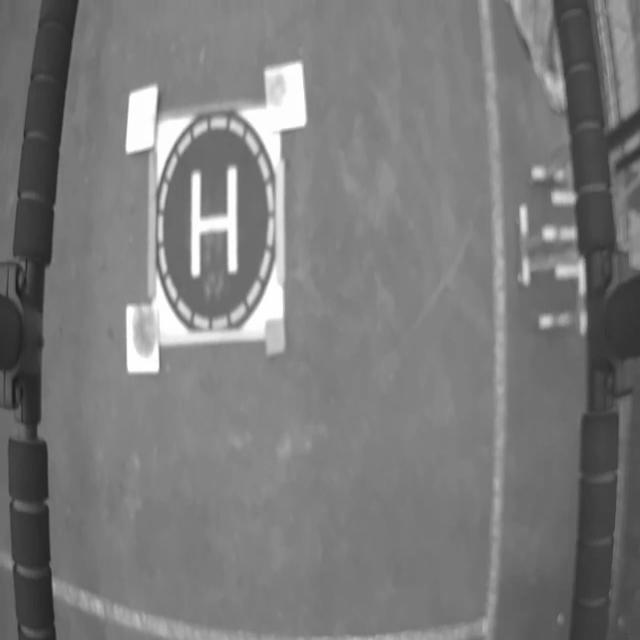Helipad: (190, 165, 239, 278)
